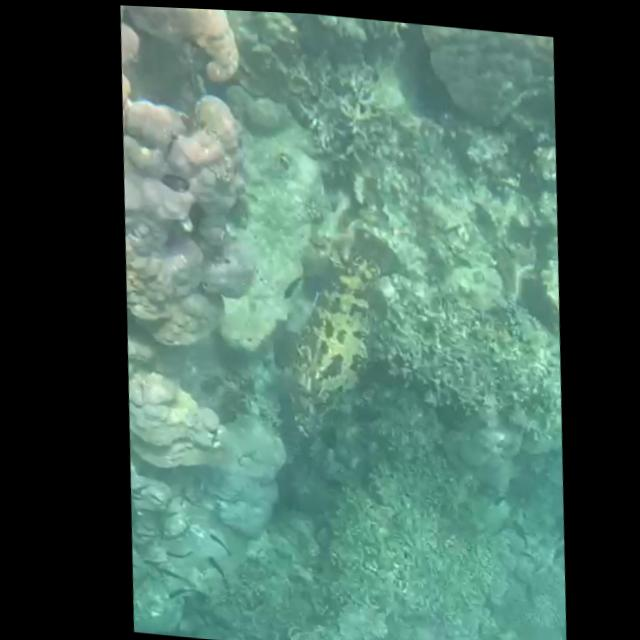Groupers: (257, 219, 419, 450)
